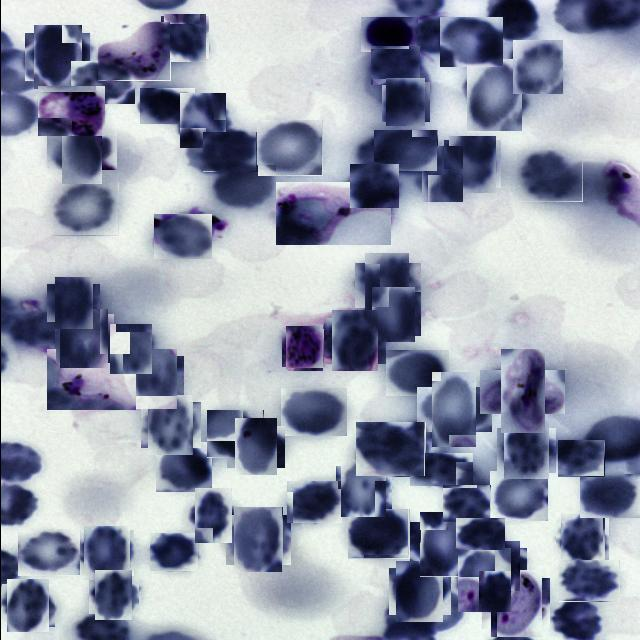difficult: (37, 86, 105, 137)
gametocyte: (282, 327, 324, 369)
leukocyte: (360, 17, 417, 52)
red blood cell: (462, 63, 526, 127), (354, 422, 424, 477), (256, 120, 322, 176), (424, 380, 484, 440), (52, 182, 118, 236), (454, 550, 514, 609), (516, 150, 582, 202), (228, 511, 286, 568), (439, 17, 503, 68), (28, 29, 85, 85), (280, 388, 346, 436), (346, 509, 408, 559), (414, 517, 469, 573), (358, 258, 414, 313), (54, 122, 108, 178), (208, 165, 274, 210), (17, 529, 80, 576), (392, 564, 446, 618), (126, 352, 180, 406), (327, 314, 381, 368), (56, 312, 110, 366), (489, 471, 547, 521), (385, 350, 448, 396), (144, 398, 196, 452), (155, 442, 211, 492), (499, 424, 552, 476), (445, 138, 498, 190), (70, 61, 134, 104), (206, 410, 263, 458), (510, 42, 562, 94), (176, 95, 228, 147), (373, 130, 437, 172), (579, 474, 640, 518), (153, 212, 211, 258), (558, 560, 619, 602), (80, 528, 130, 578), (338, 464, 388, 514), (230, 422, 280, 472), (286, 481, 342, 524), (368, 290, 418, 338), (418, 150, 467, 198), (558, 516, 606, 564), (4, 582, 52, 630), (408, 453, 472, 487), (107, 325, 153, 372), (202, 132, 256, 172), (349, 164, 398, 208), (190, 492, 236, 538), (50, 280, 96, 326), (161, 15, 207, 60), (370, 46, 420, 86), (139, 88, 194, 124), (91, 573, 135, 617), (478, 544, 522, 588), (383, 80, 427, 124), (149, 533, 198, 572), (442, 484, 490, 522), (557, 440, 604, 477), (455, 518, 504, 550)
ring: (485, 574, 545, 634)
trophozoite: (275, 182, 390, 245), (44, 349, 134, 410), (97, 22, 170, 81), (489, 359, 554, 424)
